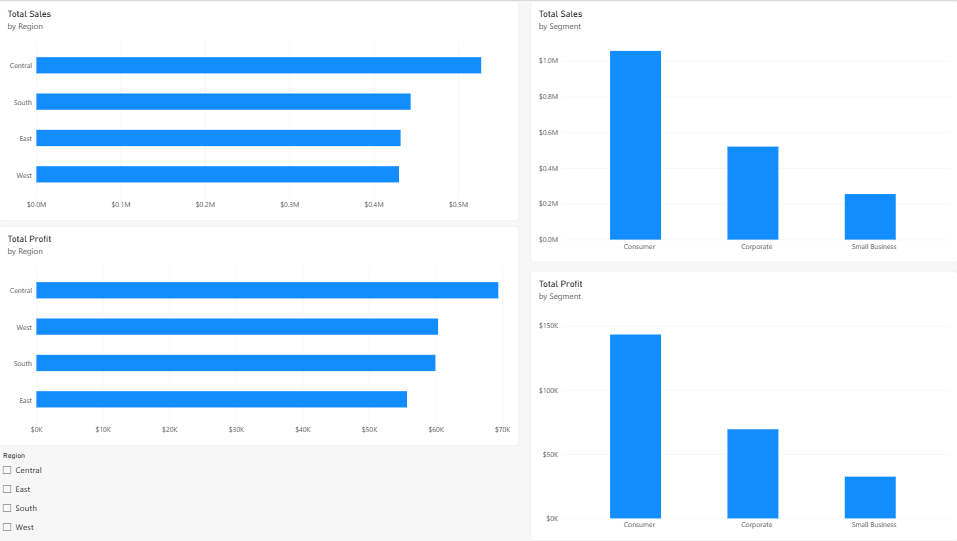

Layout of this report page (visuals, bound fields, positions):
{"tool":"powerbi","page":{"name":"Regional Analysis","canvas":[1920,1080],"ordinal":2},"visuals":[{"type":"clusteredBarChart","fields":{"Category":["Sales.Region"],"Y":["Sales.Total Sales"]},"box":[0,0,1040,440],"z":0},{"type":"clusteredBarChart","fields":{"Category":["Sales.Region"],"Y":["Sales.Total Profit"]},"box":[0,450,1040,440],"z":1000},{"type":"clusteredColumnChart","fields":{"Category":["Sales.Segment"],"Y":["Sales.Total Sales"]},"box":[1062.5,0,857.5,522.5],"z":2000},{"type":"clusteredColumnChart","fields":{"Category":["Sales.Segment"],"Y":["Sales.Total Profit"]},"box":[1062.5,540,857.5,540],"z":3000},{"type":"slicer","fields":{"Values":["Sales.Region"]},"box":[0,900,1040,180],"z":4000}]}

Visuals, with their boxes in screenshot pixels (x1, y1, x2, y2), scaled from the page's 1920x1080 canvas onto the 957x541 screenshot:
clusteredBarChart - Sales.Region x Sales.Total Sales: left=0, top=0, right=518, bottom=220
clusteredBarChart - Sales.Region x Sales.Total Profit: left=0, top=225, right=518, bottom=446
clusteredColumnChart - Sales.Segment x Sales.Total Sales: left=530, top=0, right=956, bottom=262
clusteredColumnChart - Sales.Segment x Sales.Total Profit: left=530, top=270, right=956, bottom=540
slicer - Sales.Region: left=0, top=451, right=518, bottom=540
